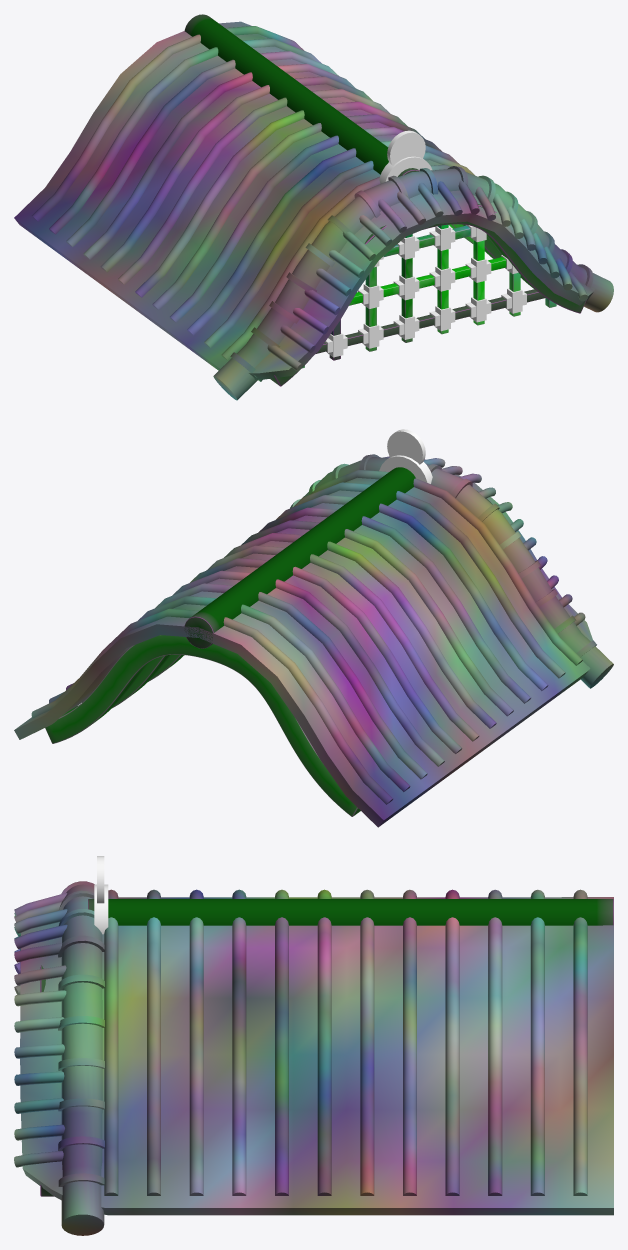
Rendered from roof_arch_3b_100_01.fbx.
3 renders of one model, top to bottom at view 1: azimuth 30°, elevation 25°; view 2: azimuth 150°, elevation 25°; view 3: azimuth 270°, elevation 25°, orthographic. The views are drawn at different scales.
Visible parts, largest first — view 1: roof_arch_3b_100_01; view 2: roof_arch_3b_100_01; view 3: roof_arch_3b_100_01.
Part boxes in pixels (left/top/right/bottom): roof_arch_3b_100_01: left=14, top=14, right=613, bottom=400; roof_arch_3b_100_01: left=14, top=429, right=613, bottom=827; roof_arch_3b_100_01: left=14, top=856, right=613, bottom=1235.
Bounding box in the file's own units: 3.95 × 2.09 × 4.22.
